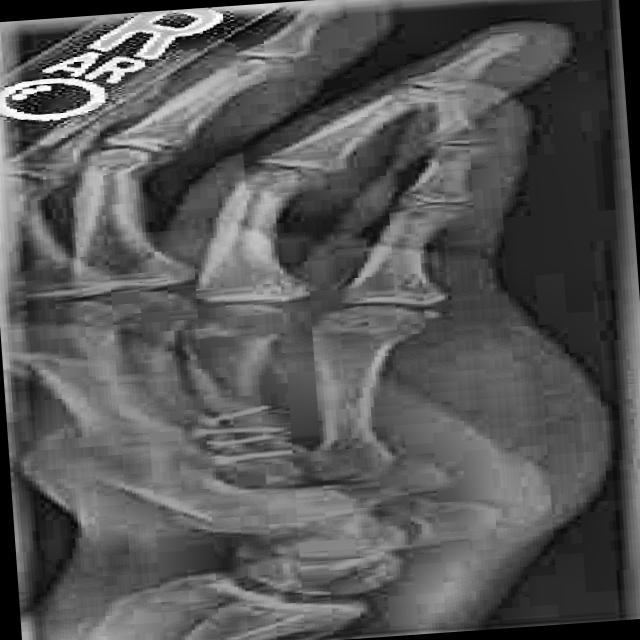fingers positive: (218, 390, 337, 475)
